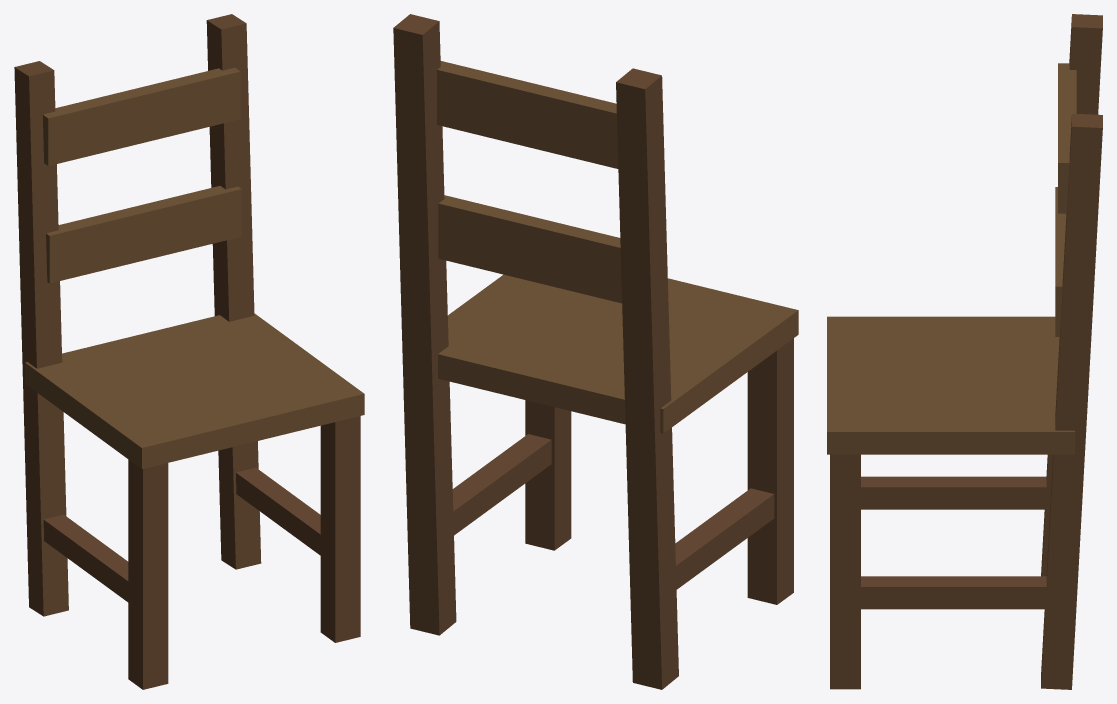
File: Chair.fbx
The picture shows the model from 3 angles, left to right: view 1: azimuth 30°, elevation 25°; view 2: azimuth 150°, elevation 25°; view 3: azimuth 270°, elevation 25°; orthographic projection. The views are drawn at different scales.
Visible parts, largest first — view 1: Chair; view 2: Chair; view 3: Chair.
Part boxes in pixels (x1=…): Chair: x1=14, y1=14, x2=364, y2=689; Chair: x1=393, y1=14, x2=798, y2=689; Chair: x1=827, y1=14, x2=1102, y2=689.
Bounding box in the file's own units: 0.44 × 1 × 0.445.
